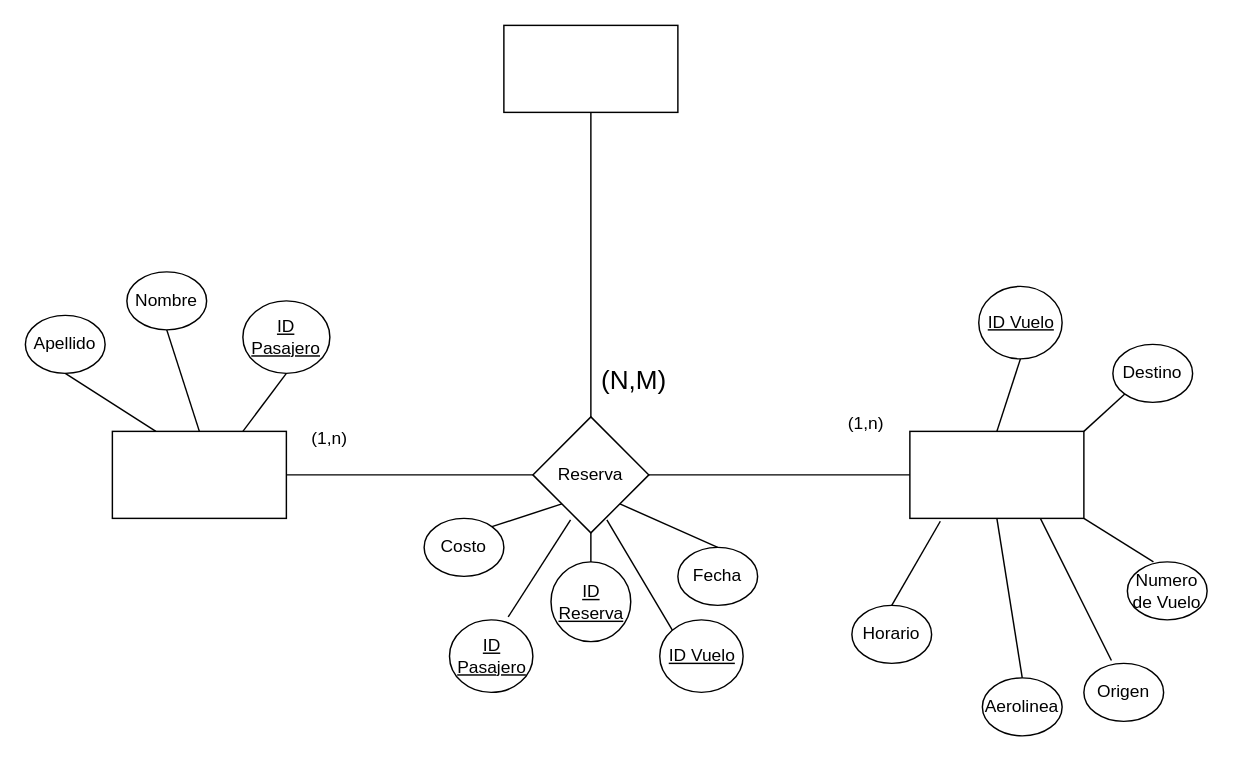
Image size: 1233x761. Some labels were removed from this diagram. Here are the shapes that lost their labels. From the top down, the centre of each, then its label:
At (590,68): "sistema de reservas de vuelos.".
At (198,474): "Pasajero".
At (996,474): "Vuelo".
